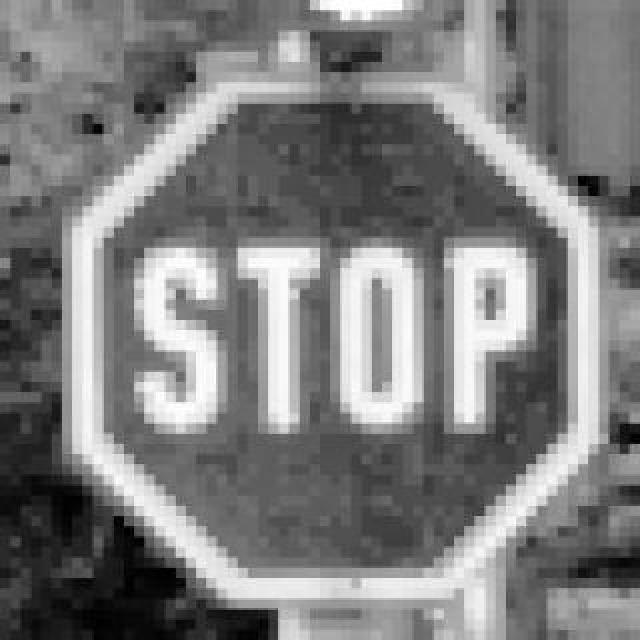stop: (52, 62, 600, 588)
